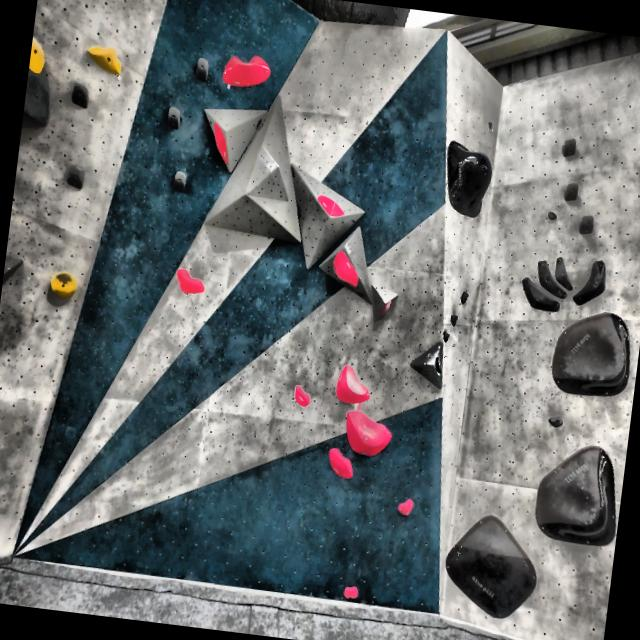Hold: (436, 512, 546, 626), (532, 438, 624, 549), (550, 308, 636, 402), (439, 136, 497, 222), (340, 411, 393, 462), (218, 51, 276, 90), (331, 360, 373, 406), (572, 254, 610, 304), (518, 275, 562, 314), (320, 444, 360, 482), (172, 261, 209, 302), (533, 260, 568, 300), (205, 120, 234, 166), (329, 250, 364, 288), (86, 41, 125, 75), (48, 264, 78, 306), (322, 448, 356, 482), (315, 191, 350, 222), (551, 252, 576, 290), (28, 37, 50, 79), (392, 495, 421, 520), (339, 582, 364, 604), (292, 381, 312, 407), (544, 412, 566, 434), (396, 496, 416, 520), (338, 582, 362, 602), (378, 295, 393, 322)
